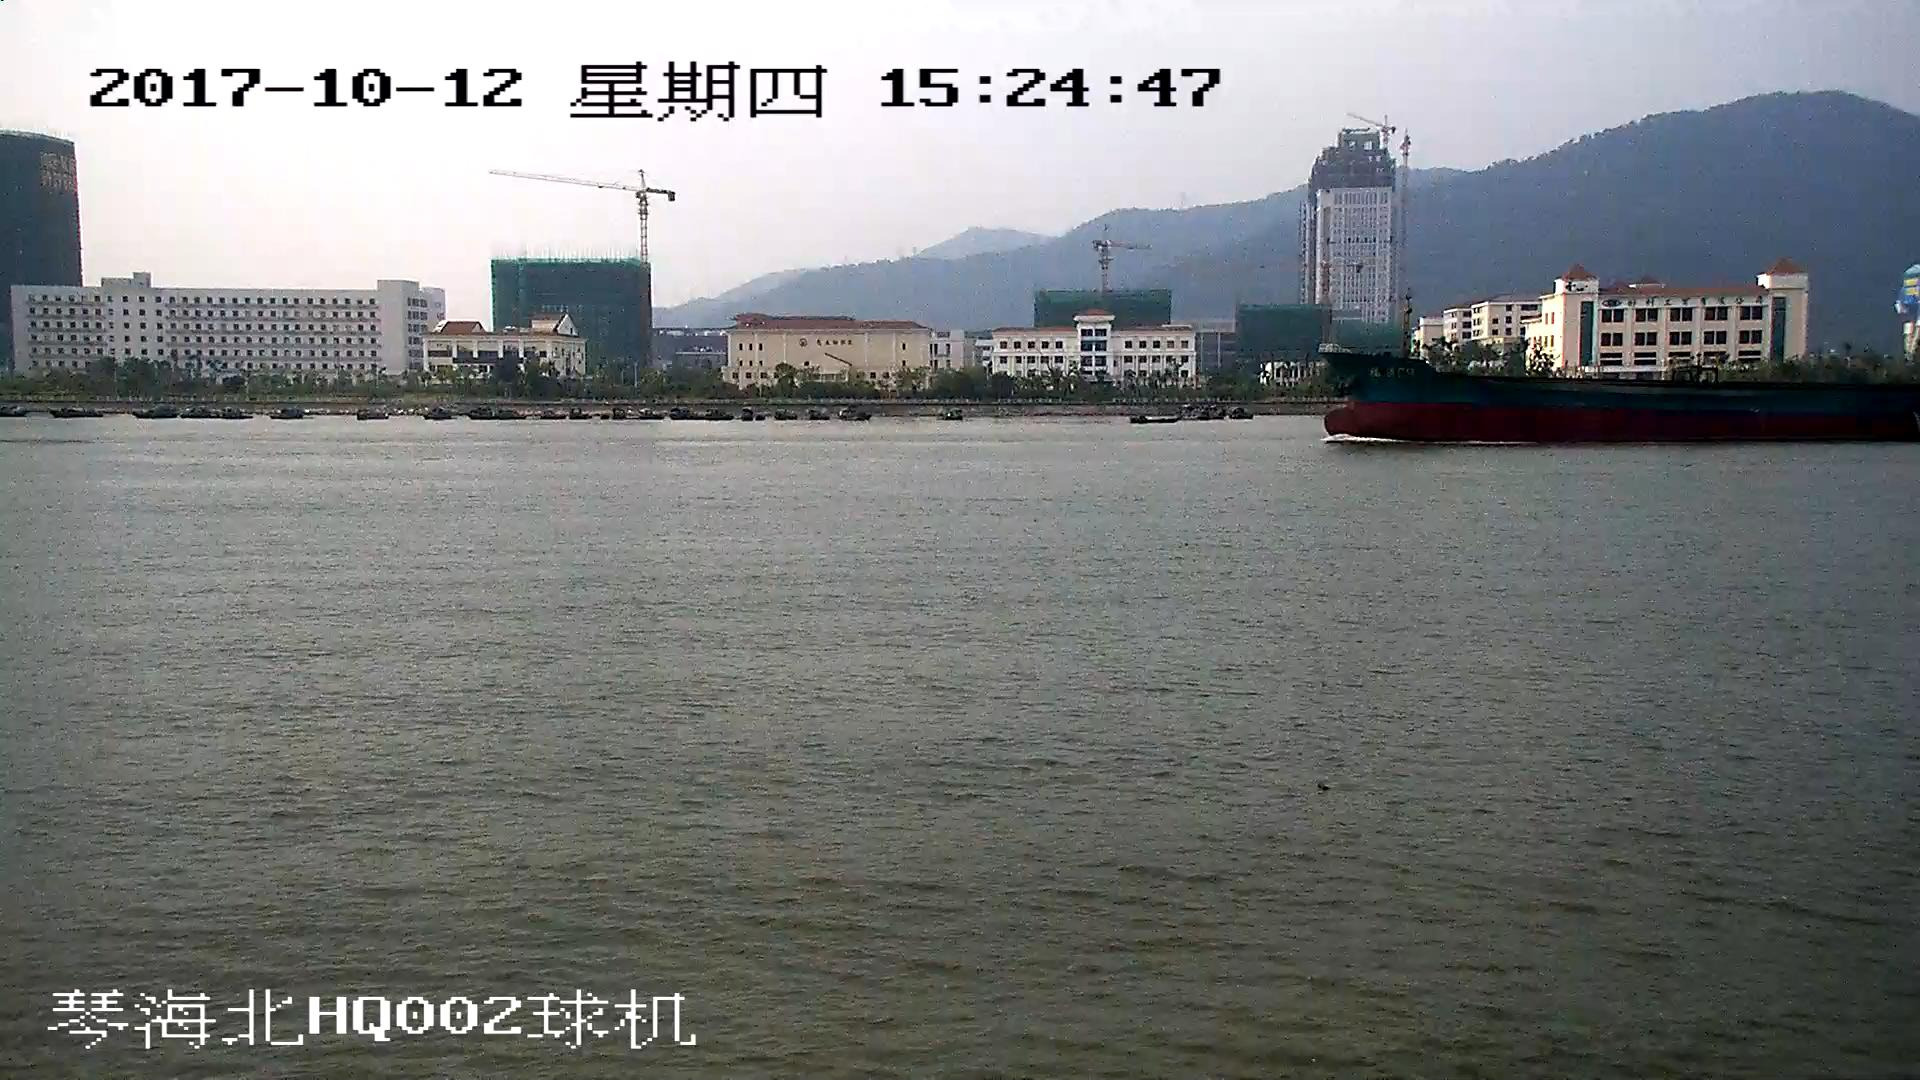general cargo ship: (1314, 342, 1920, 446)
